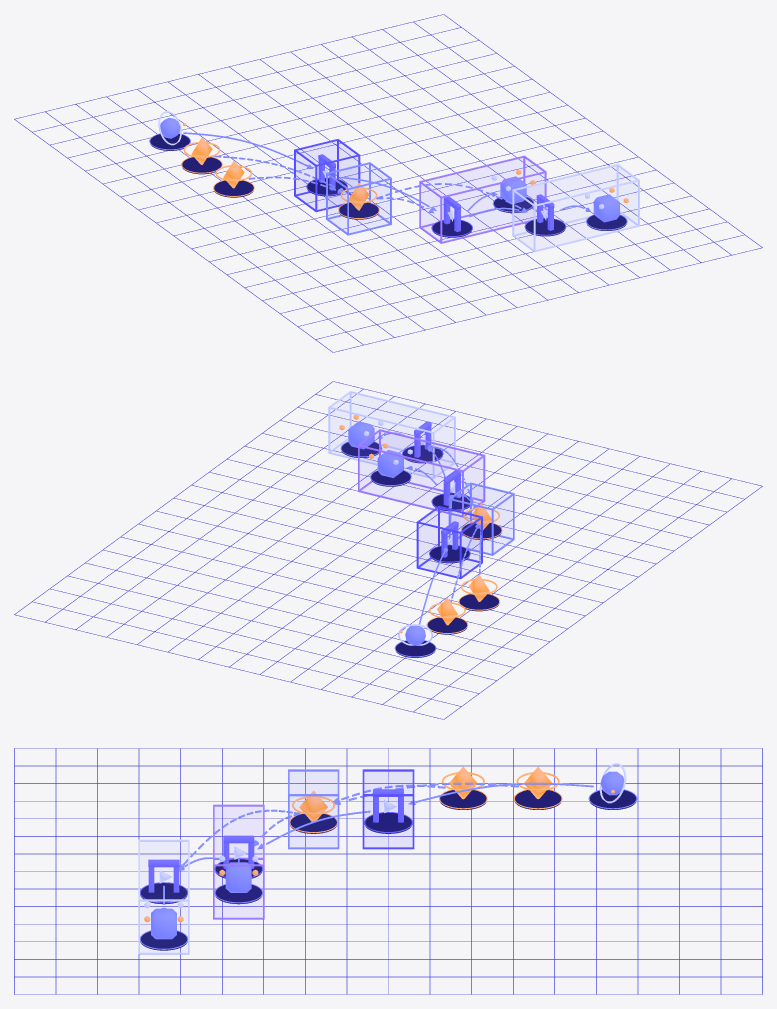
Rendered from istio.glb.
3 renders of one model, top to bottom at view 1: azimuth 30°, elevation 25°; view 2: azimuth 150°, elevation 25°; view 3: azimuth 270°, elevation 25°, orthographic. The views are drawn at different scales.
Visible parts, largest first — view 1: floor, group_Service_B_pod, group_Service_A_pod, group_Control_plane, group_Mesh_edge, mesh_app_b_core; view 2: floor, group_Service_B_pod, group_Service_A_pod, group_Mesh_edge, group_Control_plane, mesh_app_a_core; view 3: floor, group_Service_A_pod, group_Mesh_edge, group_Service_B_pod, group_Control_plane, mesh_app_b_core, mesh_app_a_core, mesh_gateway_pad, mesh_vs_pad, mesh_dr_pad, mesh_ext_pad, mesh_istiod_pad (+5 smaller).
Boxes of the visible parts, x1,y1,x2,y2 form: floor: (14,14,762,352); group_Service_B_pod: (512,164,639,252); group_Service_A_pod: (419,155,546,243); group_Control_plane: (326,162,391,235); group_Mesh_edge: (294,139,360,212); mesh_app_b_core: (593,194,619,222); floor: (14,381,762,719); group_Service_B_pod: (328,391,455,479); group_Service_A_pod: (358,429,485,517); group_Mesh_edge: (416,506,482,579); group_Control_plane: (448,482,514,555); mesh_app_a_core: (377,450,403,477); floor: (14,748,762,994); group_Service_A_pod: (213,804,264,919); group_Mesh_edge: (362,769,414,849); group_Service_B_pod: (138,839,189,954); group_Control_plane: (288,769,339,849); mesh_app_b_core: (151,908,176,939); mesh_app_a_core: (225,862,251,892); mesh_gateway_pad: (365,812,411,833); mesh_vs_pad: (515,790,561,809); mesh_dr_pad: (440,790,486,809); mesh_ext_pad: (589,790,636,809); mesh_istiod_pad: (290,814,336,833).
Bounding box in the file's own units: 28.03 × 2.93 × 36.03.
